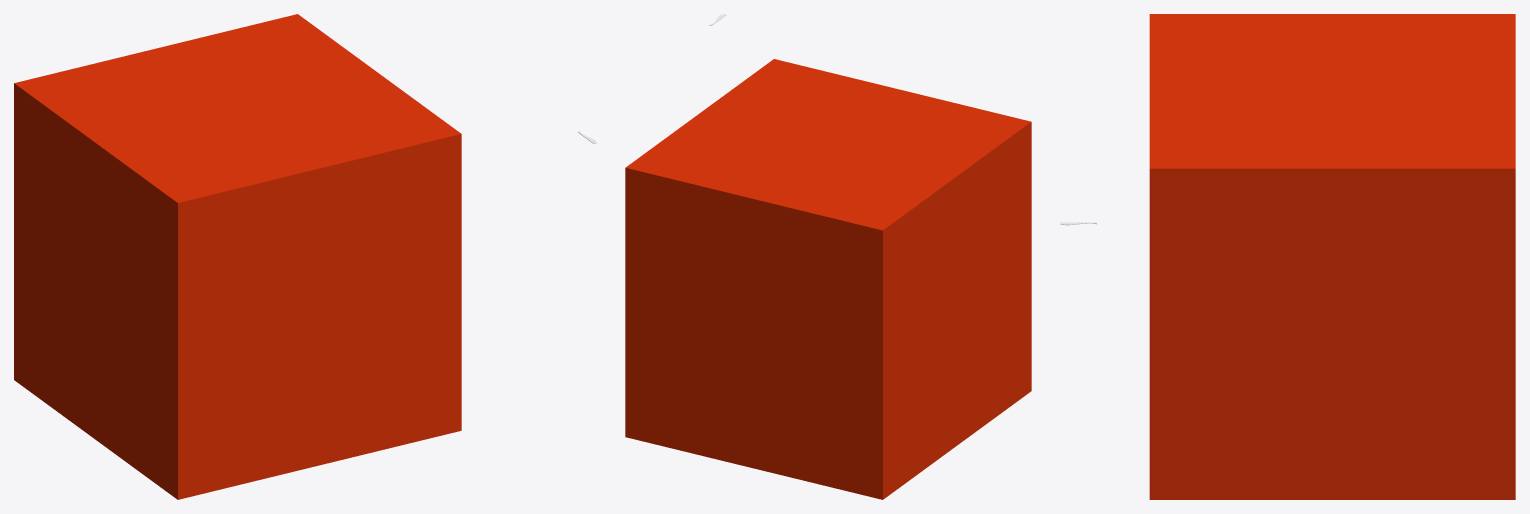
3 renders of one model, left to right at view 1: azimuth 30°, elevation 25°; view 2: azimuth 150°, elevation 25°; view 3: azimuth 270°, elevation 25°, orthographic. The views are drawn at different scales.
Parts seen in each view (by area): view 1: Cube; view 2: Cube; view 3: Cube.
Part boxes in pixels (x1=…): Cube: x1=14, y1=14, x2=461, y2=499; Cube: x1=625, y1=59, x2=1031, y2=499; Cube: x1=1149, y1=14, x2=1515, y2=499.
Size of the model in its own units: 2.68 by 2 by 2.49.
